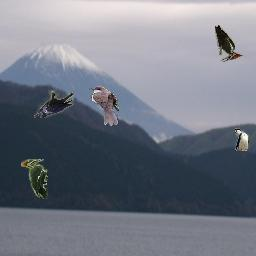Crow: (34, 90, 74, 118)
Cuckoo: (89, 86, 119, 126)
Swallow: (235, 128, 249, 151)
Woodpecker: (21, 159, 48, 199), (215, 25, 243, 62)
